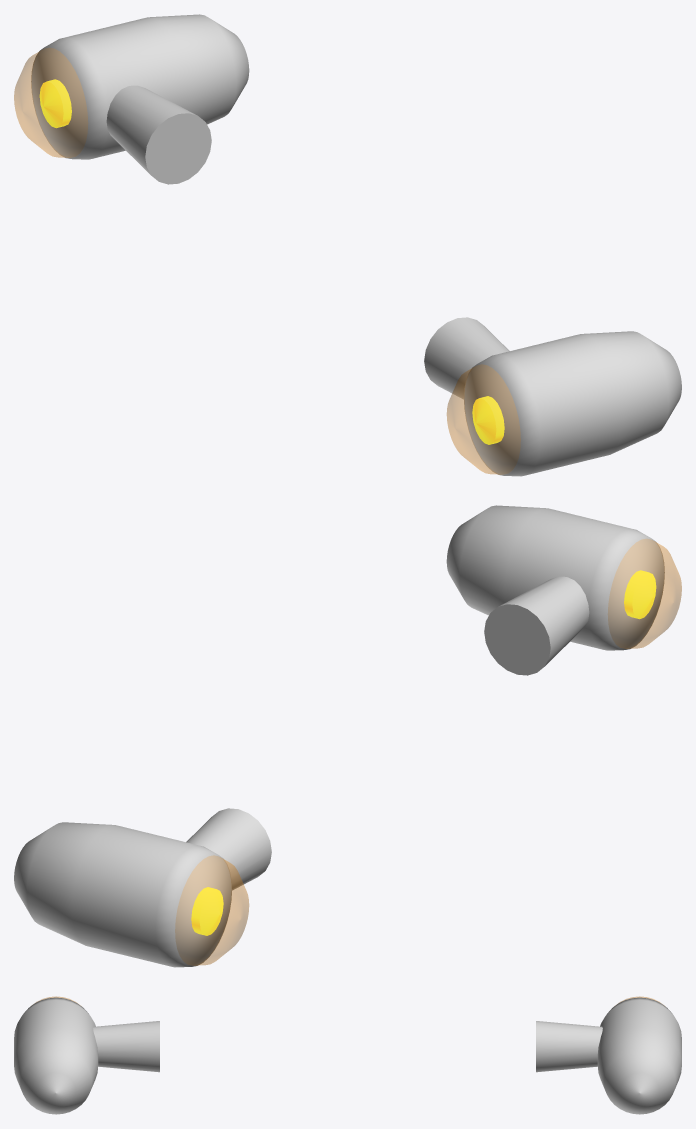
The model's file is bullet.glb.
The picture shows the model from 3 angles, top to bottom: view 1: azimuth 30°, elevation 25°; view 2: azimuth 150°, elevation 25°; view 3: azimuth 270°, elevation 25°; orthographic projection. The views are drawn at different scales.
Visible parts, largest first — view 1: indicators_rear_bullet; view 2: indicators_rear_bullet; view 3: indicators_rear_bullet.
Boxes of the visible parts, x1=… form: indicators_rear_bullet: x1=14, y1=14, x2=681, y2=476; indicators_rear_bullet: x1=14, y1=505, x2=681, y2=967; indicators_rear_bullet: x1=14, y1=996, x2=681, y2=1114.
Bounding box in the file's own units: 0.053 × 0.026 × 0.206.
